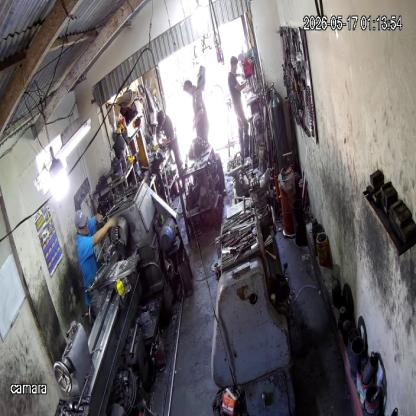lentes: (79, 222, 89, 233)
